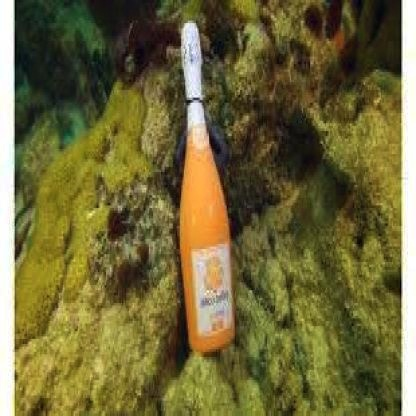gbottle: (178, 20, 235, 346)
